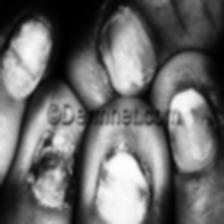Toxin: (94, 7, 160, 105), (92, 148, 158, 224), (167, 95, 224, 169), (35, 126, 79, 216), (1, 19, 49, 101)
